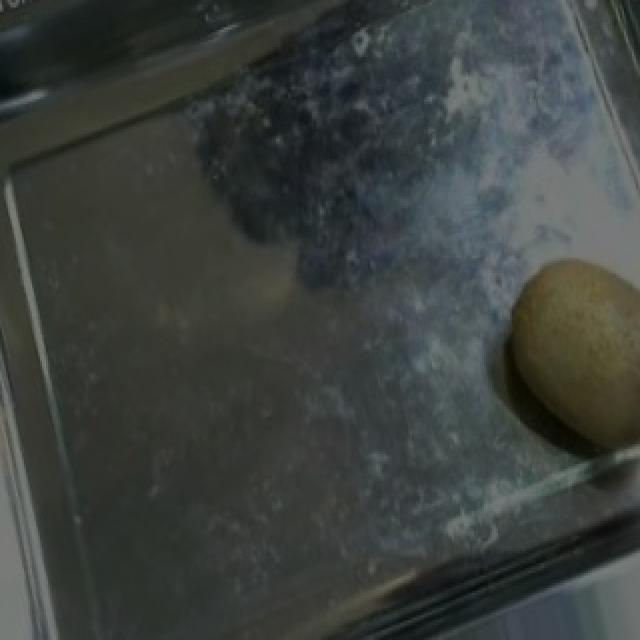Fruit: (476, 231, 640, 481)
